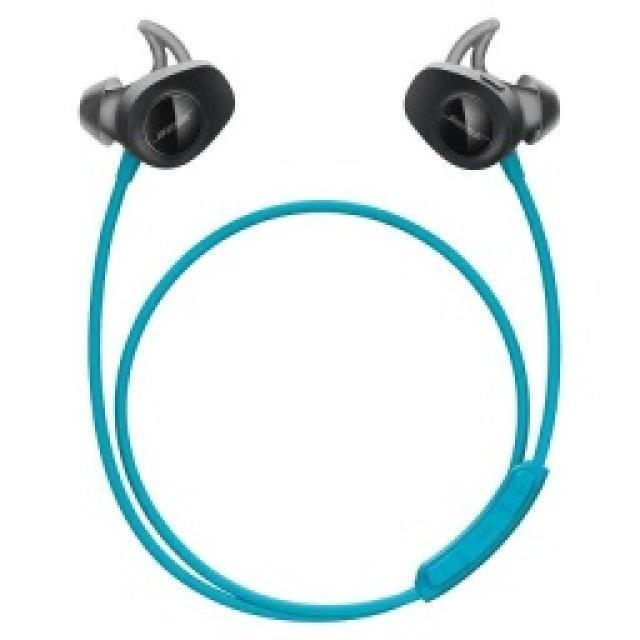headphones: (400, 15, 560, 170), (77, 18, 235, 168)
